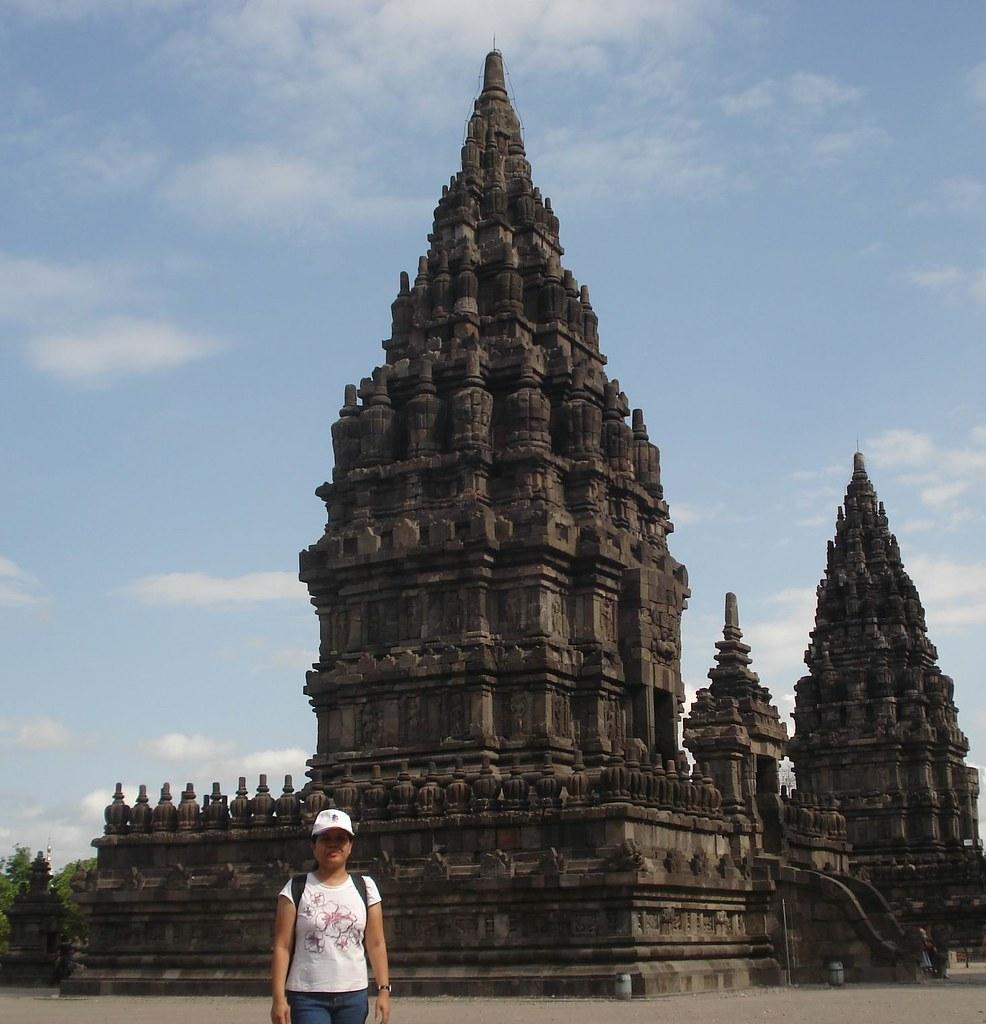temple: (34, 31, 982, 1002), (296, 31, 697, 814), (783, 440, 985, 965)
